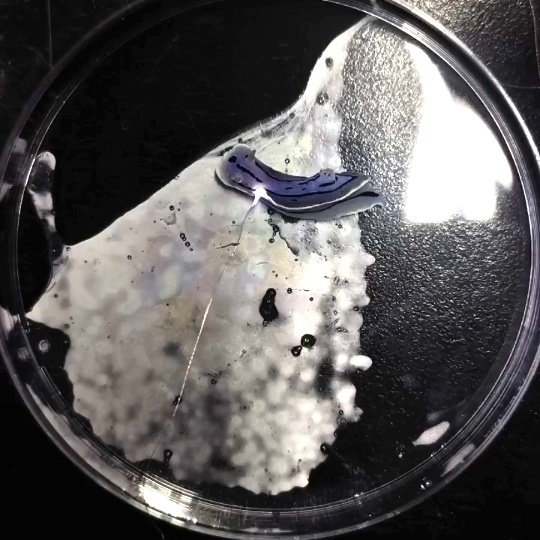sea-slug: (121, 18, 356, 178)
